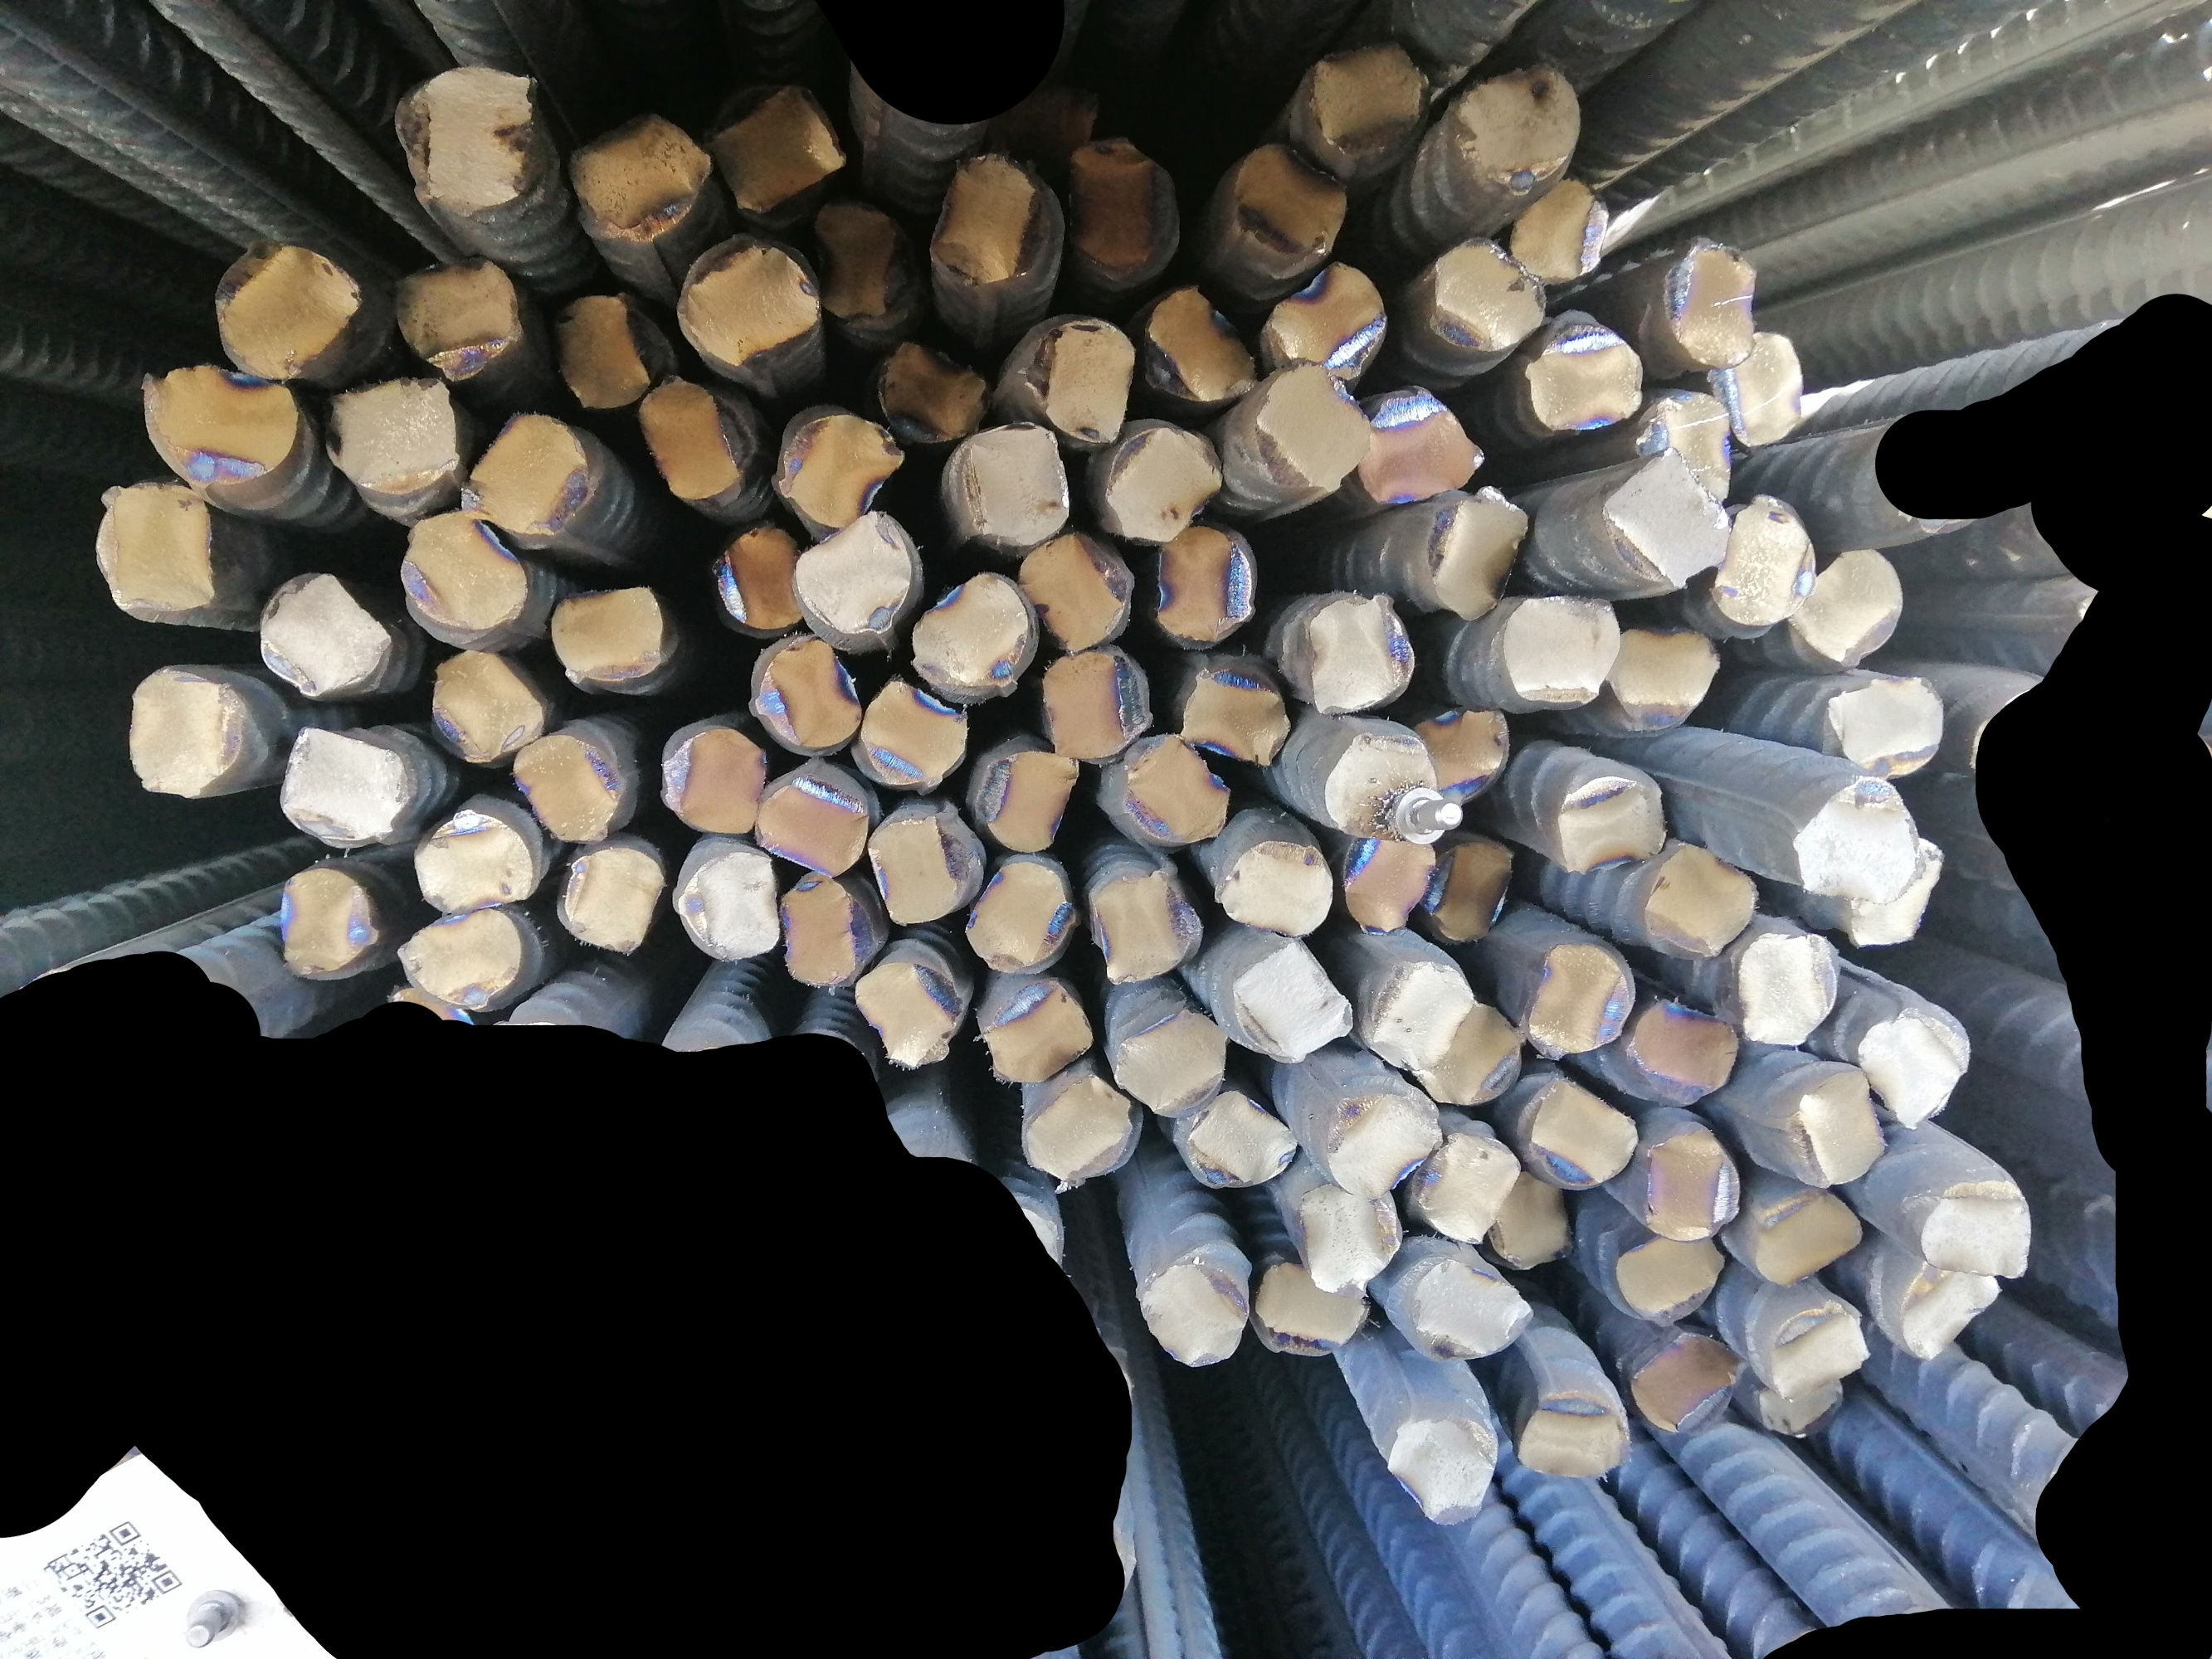rebar: (673, 225, 828, 375), (390, 63, 535, 218), (211, 240, 363, 387), (561, 110, 716, 247), (134, 359, 300, 486), (457, 403, 596, 542), (1598, 450, 1736, 591), (1449, 56, 1586, 193), (711, 78, 851, 214), (253, 566, 392, 702), (924, 148, 1056, 289), (1785, 777, 1928, 908), (396, 504, 528, 643), (392, 249, 525, 387), (321, 373, 462, 502), (1252, 356, 1377, 498), (793, 504, 917, 648), (772, 397, 903, 533), (1225, 138, 1354, 275), (122, 662, 249, 802), (91, 477, 214, 620), (277, 716, 410, 849), (1067, 132, 1184, 281), (1349, 382, 1487, 507), (1304, 35, 1433, 167), (1013, 315, 1138, 450), (1781, 544, 1912, 671), (1849, 1006, 1980, 1133), (947, 415, 1072, 547), (553, 282, 676, 416), (1231, 932, 1354, 1066), (1419, 479, 1536, 620), (1264, 258, 1389, 387), (1422, 230, 1551, 356), (912, 568, 1037, 694), (411, 798, 540, 920), (633, 366, 748, 502), (1903, 1166, 2039, 1281), (1706, 488, 1818, 627), (1100, 422, 1227, 544), (1518, 315, 1645, 437), (1137, 282, 1262, 404), (1520, 936, 1640, 1063), (1771, 1058, 1890, 1187), (865, 805, 981, 936), (1618, 993, 1745, 1112), (1091, 859, 1208, 986), (1497, 592, 1625, 709), (1374, 1410, 1501, 1527), (807, 195, 913, 335), (1720, 925, 1841, 1047), (1297, 591, 1415, 714), (1041, 640, 1157, 765), (1316, 1089, 1445, 1202), (425, 645, 547, 763), (1112, 1002, 1234, 1121), (1639, 843, 1762, 960), (1407, 1253, 1536, 1364), (964, 856, 1082, 976), (1522, 1072, 1642, 1190), (753, 767, 875, 884), (1018, 1072, 1142, 1187), (1018, 528, 1131, 653), (507, 730, 626, 849), (849, 957, 967, 1075), (748, 633, 865, 753), (1408, 1129, 1525, 1249), (851, 674, 973, 789), (1323, 727, 1443, 842), (873, 336, 999, 446), (394, 903, 521, 1011), (1659, 237, 1759, 375), (1286, 1175, 1401, 1293), (549, 584, 669, 697), (1628, 1321, 1748, 1434), (1138, 1256, 1252, 1377), (1544, 774, 1677, 877), (777, 864, 880, 995), (1156, 519, 1259, 650), (1825, 669, 1951, 775), (980, 972, 1095, 1087), (1635, 1121, 1745, 1241), (1743, 1180, 1865, 1288), (657, 725, 770, 840), (1119, 732, 1232, 847), (1893, 1255, 2008, 1368), (277, 864, 385, 985), (673, 845, 779, 967), (1515, 1382, 1639, 1486), (1506, 174, 1618, 289), (1215, 833, 1333, 941), (1605, 627, 1724, 735), (1708, 322, 1806, 453), (1635, 382, 1736, 507), (1177, 669, 1297, 774), (1178, 1089, 1300, 1190), (558, 840, 668, 951), (1365, 955, 1471, 1070), (1410, 1000, 1525, 1107), (1255, 1258, 1370, 1364), (709, 519, 809, 640), (974, 746, 1084, 854), (1762, 1295, 1879, 1396), (1419, 838, 1525, 945), (1412, 701, 1513, 812), (1611, 1232, 1727, 1328), (1340, 824, 1436, 939), (1482, 1171, 1578, 1276), (1851, 840, 1942, 946), (1755, 1370, 1849, 1441)
